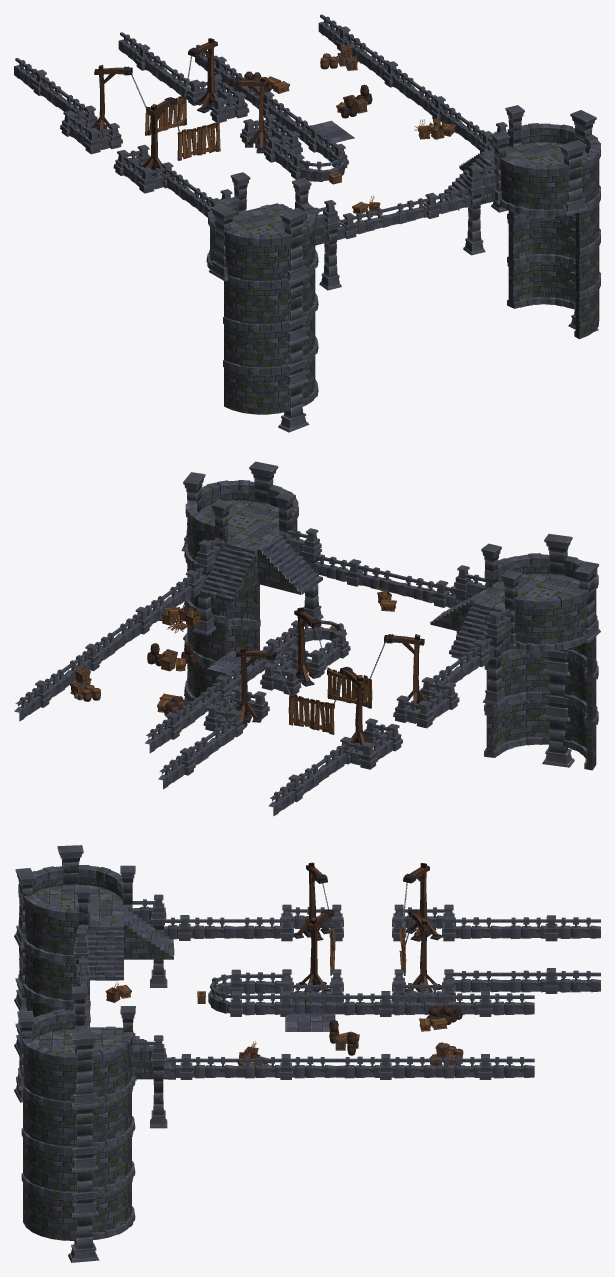
Rendered from ExteriorWalls1.gltf.
3 views of the same model, one above another, from view 1: azimuth 30°, elevation 25°; view 2: azimuth 150°, elevation 25°; view 3: azimuth 270°, elevation 25° (orthographic). The views are drawn at different scales.
Visible parts, largest first — view 1: ExteriorPath1; view 2: ExteriorPath1; view 3: ExteriorPath1.
Part boxes in pixels (box(x1,y1,x2,y2)): ExteriorPath1: box(14, 14, 600, 432); ExteriorPath1: box(14, 461, 600, 816); ExteriorPath1: box(14, 845, 600, 1262).
Size of the model in its own units: 37.25 by 20.54 by 47.11.
13 materials, 13 textured.
